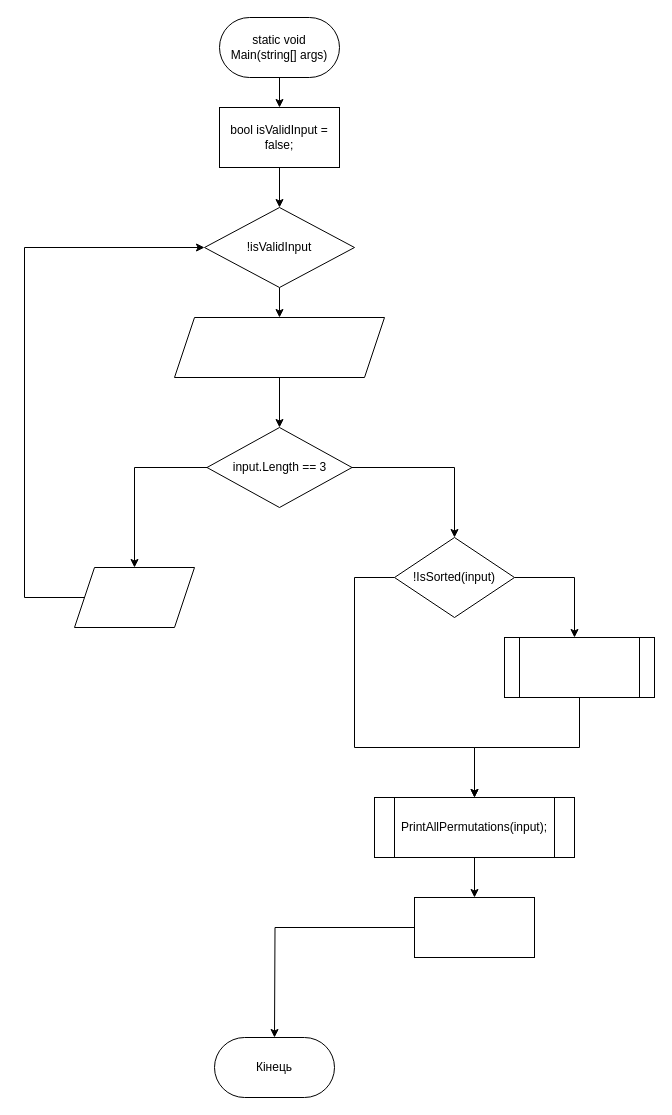
Image size: 672x1115. Some labels were removed from this diagram. Here are the shapes that lost their labels. From the top down, the centre of each, then its label:
(x=279, y=347): int[] input = Console.ReadLine() .Split(' ').Select(int.Parse). ToArray();
(x=134, y=597): try again :)
(x=579, y=667): InsertionSort(input);
(x=474, y=927): isValidInput = true;
